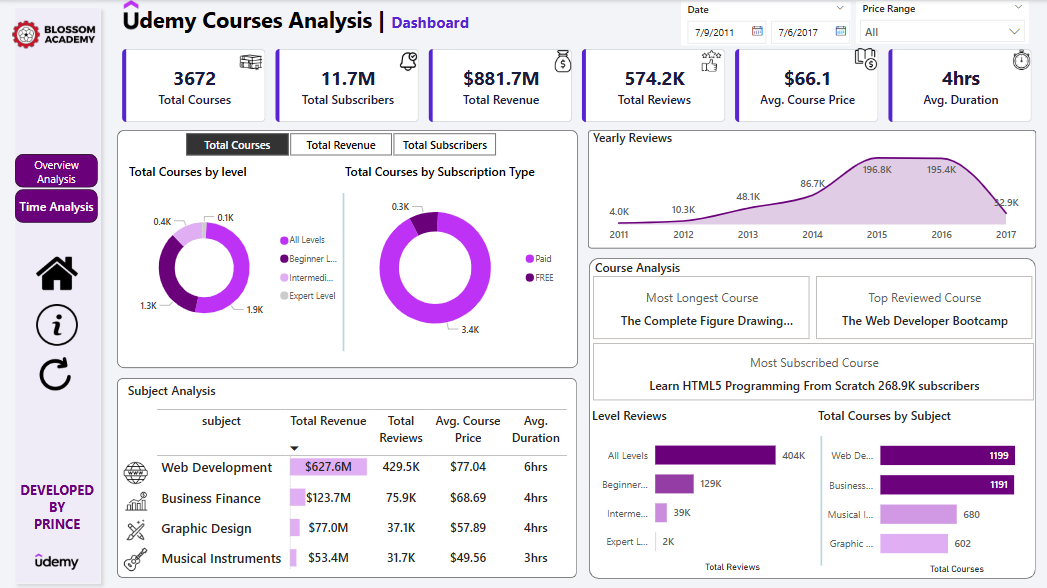

This screenshot's page, from the dashboard's own definition file:
{"tool":"powerbi","page":{"name":"Overview Analysis","canvas":[1280,720],"ordinal":0},"visuals":[{"type":"shape","box":[10,0,122.7,720.6],"z":0},{"type":"cardVisual","fields":{"Data":["Udemy Course Analysis.Total Courses","Udemy Course Analysis.Total Subscribers","Udemy Course Analysis.Total Revenue","Udemy Course Analysis.Total Reviews","Udemy Course Analysis.Avg Course Price","Udemy Course Analysis.Average Duration"]},"box":[144.8,54.6,1120.8,99.9],"z":0,"group":"g1"},{"type":"textbox","box":[158.4,0,438.1,52.8],"z":1000},{"type":"image","box":[122.7,0,75,41],"z":2000},{"type":"shape","box":[144,158.7,562.7,290.7],"z":3000},{"type":"image","box":[275.8,53.8,62.7,37.1],"z":4000,"group":"g1"},{"type":"slicer","fields":{"Values":["Dynamic Measure.Dynamic Measure"]},"box":[206.9,158.4,418.1,35.7],"z":4000},{"type":"image","box":[481.1,56.5,34.2,37.1],"z":5000,"group":"g1"},{"type":"donutChart","fields":{"Y":["Udemy Course Analysis.Total Courses"],"Category":["Udemy Course Analysis.Subscription Type (FREE/PAID)"]},"box":[422.7,198.7,264,230.7],"z":5000},{"type":"image","box":[667.9,56.5,38.5,37.1],"z":6000,"group":"g1"},{"type":"group","id":"g1","title":"Group 1","box":[144.8,53.6,1120.9,101.9],"z":6000},{"type":"shape","box":[144,461.3,561.3,244],"z":7000},{"type":"image","box":[850.4,56.5,38.5,35.7],"z":8000,"group":"g1"},{"type":"pivotTable","fields":{"Rows":["Udemy Course Analysis.subject"],"Values":["Udemy Course Analysis.Total Revenue","Udemy Course Analysis.Total Reviews","Udemy Course Analysis.Average Course Price","Udemy Course Analysis.Average Duration"]},"box":[188,494.7,518.7,210.7],"z":8000},{"type":"image","box":[1038.7,53.6,38.5,37.1],"z":9000,"group":"g1"},{"type":"image","box":[145.7,557.3,42.7,38.7],"z":9000},{"type":"image","box":[1228.3,55.1,38.5,35.7],"z":10000,"group":"g1"},{"type":"image","box":[143,662.7,48,40],"z":10000},{"type":"image","box":[143.7,627.1,46.7,38.7],"z":11000},{"type":"image","box":[143.7,592.9,46.7,37.3],"z":12000},{"type":"card","fields":{"Values":["Udemy Course Analysis.Title for Grid"]},"box":[144.8,461.2,130.5,34],"z":13000},{"type":"shape","box":[718.7,159.1,547,144.8],"z":14000},{"type":"areaChart","fields":{"Y":["Udemy Course Analysis.Total Reviews"],"Category":["Udemy Course Analysis.published_timestamp.Variation.Date Hierarchy.Year"]},"box":[729.4,157.3,527.4,146.6],"z":15000},{"type":"shape","box":[720.4,314.6,545.3,391.5],"z":16000},{"type":"cardVisual","fields":{"Data":["Udemy Course Analysis.Most Longest Course","Udemy Course Analysis.Top Reviewed Course"]},"box":[720,337.3,546.7,77.3],"z":17000},{"type":"cardVisual","fields":{"Data":["Udemy Course Analysis.Most Subscribed Course"]},"box":[720,418.7,548,70.7],"z":18000},{"type":"barChart","title":"Total Reviews by Levels","fields":{"Category":["Udemy Course Analysis.level"],"Y":["Udemy Course Analysis.Total Reviews"]},"box":[719.2,496.6,275.4,205.5],"z":19000},{"type":"barChart","title":"Total Courses by Subject","fields":{"Category":["Udemy Course Analysis.subject"],"Y":["Udemy Course Analysis.Total Courses"]},"box":[994.6,496.6,272.6,208.3],"z":20000},{"type":"shape","box":[409.4,236,23.2,193.1],"z":21000},{"type":"shape","box":[991.8,532.3,22.8,158.4],"z":22000},{"type":"card","fields":{"Values":["Udemy Course Analysis.Title for Card"]},"box":[729.3,314.7,121.3,22.7],"z":23000},{"type":"slicer","fields":{"Values":["Udemy Course Analysis.published_timestamp"]},"box":[832,2.7,206.7,53.3],"z":24000},{"type":"slicer","fields":{"Values":["Udemy Course Analysis.Price Range"]},"box":[1045.8,1.8,210.9,51.8],"z":25000},{"type":"image","box":[10.7,12,112,60],"z":26000},{"type":"donutChart","fields":{"Y":["Udemy Course Analysis.Total Courses"],"Category":["Udemy Course Analysis.level"]},"box":[159.1,198.4,264.6,230.6],"z":27000},{"type":"pageNavigator","box":[20,188.4,101.3,84.2],"z":28000},{"type":"image","box":[40,294,61.4,78.5],"z":29000},{"type":"image","box":[40,359.6,61.4,72.8],"z":30000},{"type":"image","box":[37.1,422.4,64.2,67.1],"z":31000},{"type":"image","box":[10,650.1,122.7,69.9],"z":32000},{"type":"textbox","box":[20,582.2,102.7,74.2],"z":33000}]}

Visuals, with their boxes on the page's 1280x720 design canvas (x1, y1, x2, y2). These are canvas units, not pixel positions in the 1047x588 screenshot, which may show the page scaled, cropped or inside an application window:
shape: select_region(10, 0, 133, 721)
cardVisual - Udemy Course Analysis.Total Courses x Udemy Course Analysis.Total Subscribers: select_region(145, 55, 1266, 154)
textbox: select_region(158, 0, 596, 53)
image: select_region(123, 0, 198, 41)
shape: select_region(144, 159, 707, 449)
image: select_region(276, 54, 338, 91)
slicer - Dynamic Measure.Dynamic Measure: select_region(207, 158, 625, 194)
image: select_region(481, 56, 515, 94)
donutChart - Udemy Course Analysis.Total Courses x Udemy Course Analysis.Subscription Type (FREE/PAID): select_region(423, 199, 687, 429)
image: select_region(668, 56, 706, 94)
"Group 1" group: select_region(145, 54, 1266, 156)
shape: select_region(144, 461, 705, 705)
image: select_region(850, 56, 889, 92)
pivotTable - Udemy Course Analysis.subject x Udemy Course Analysis.Total Revenue: select_region(188, 495, 707, 705)
image: select_region(1039, 54, 1077, 91)
image: select_region(146, 557, 188, 596)
image: select_region(1228, 55, 1267, 91)
image: select_region(143, 663, 191, 703)
image: select_region(144, 627, 190, 666)
image: select_region(144, 593, 190, 630)
card - Udemy Course Analysis.Title for Grid: select_region(145, 461, 275, 495)
shape: select_region(719, 159, 1266, 304)
areaChart - Udemy Course Analysis.Total Reviews x Udemy Course Analysis.published_timestamp.Variation.Date Hierarchy.Year: select_region(729, 157, 1257, 304)
shape: select_region(720, 315, 1266, 706)
cardVisual - Udemy Course Analysis.Most Longest Course x Udemy Course Analysis.Top Reviewed Course: select_region(720, 337, 1267, 415)
cardVisual - Udemy Course Analysis.Most Subscribed Course: select_region(720, 419, 1268, 489)
"Total Reviews by Levels" barChart: select_region(719, 497, 995, 702)
"Total Courses by Subject" barChart: select_region(995, 497, 1267, 705)
shape: select_region(409, 236, 433, 429)
shape: select_region(992, 532, 1015, 691)
card - Udemy Course Analysis.Title for Card: select_region(729, 315, 851, 337)
slicer - Udemy Course Analysis.published_timestamp: select_region(832, 3, 1039, 56)
slicer - Udemy Course Analysis.Price Range: select_region(1046, 2, 1257, 54)
image: select_region(11, 12, 123, 72)
donutChart - Udemy Course Analysis.Total Courses x Udemy Course Analysis.level: select_region(159, 198, 424, 429)
pageNavigator: select_region(20, 188, 121, 273)
image: select_region(40, 294, 101, 372)
image: select_region(40, 360, 101, 432)
image: select_region(37, 422, 101, 490)
image: select_region(10, 650, 133, 720)
textbox: select_region(20, 582, 123, 656)
